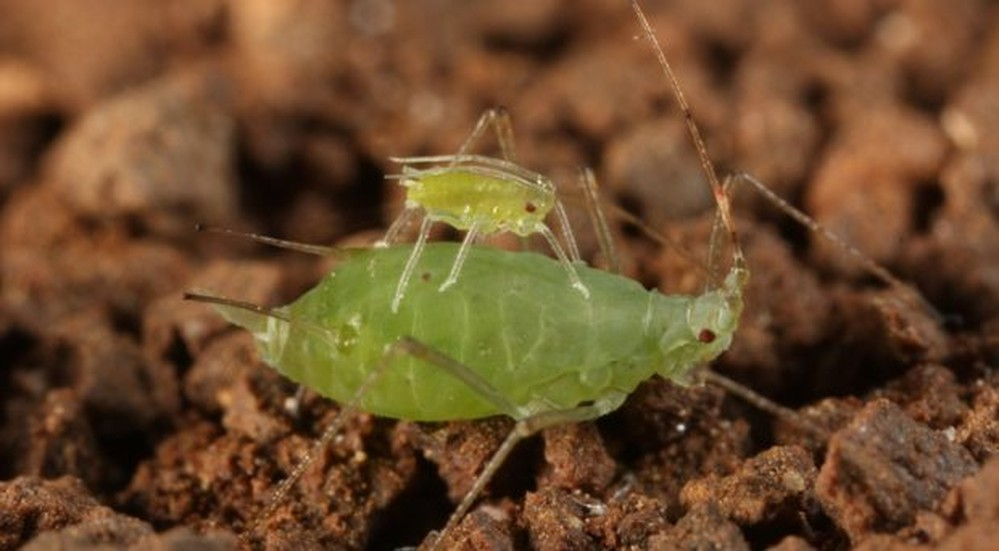Pulgon: (187, 132, 938, 538), (361, 109, 605, 288)
